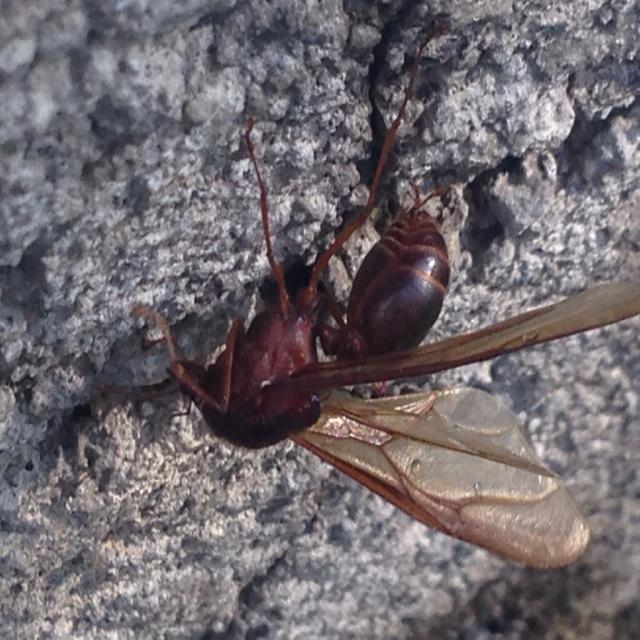Alive-Male-Alate: (129, 22, 640, 570)
